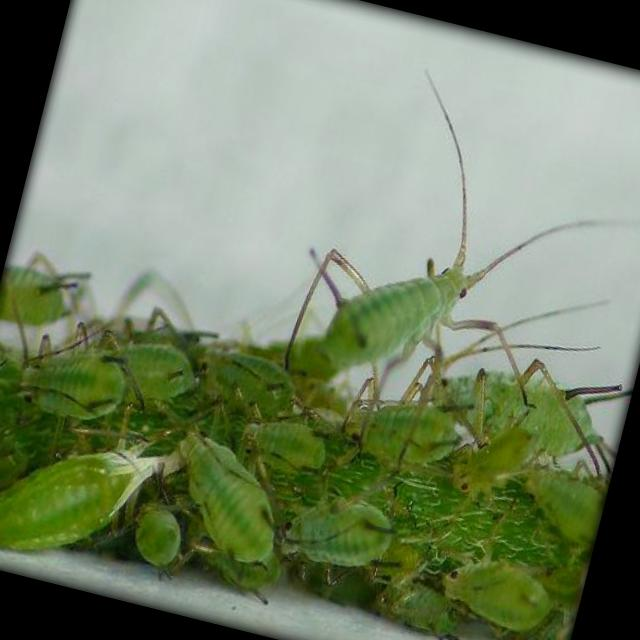Aphid: (252, 133, 592, 463), (134, 390, 306, 598), (0, 306, 168, 463), (310, 366, 471, 494), (263, 463, 419, 593), (418, 514, 563, 640)
